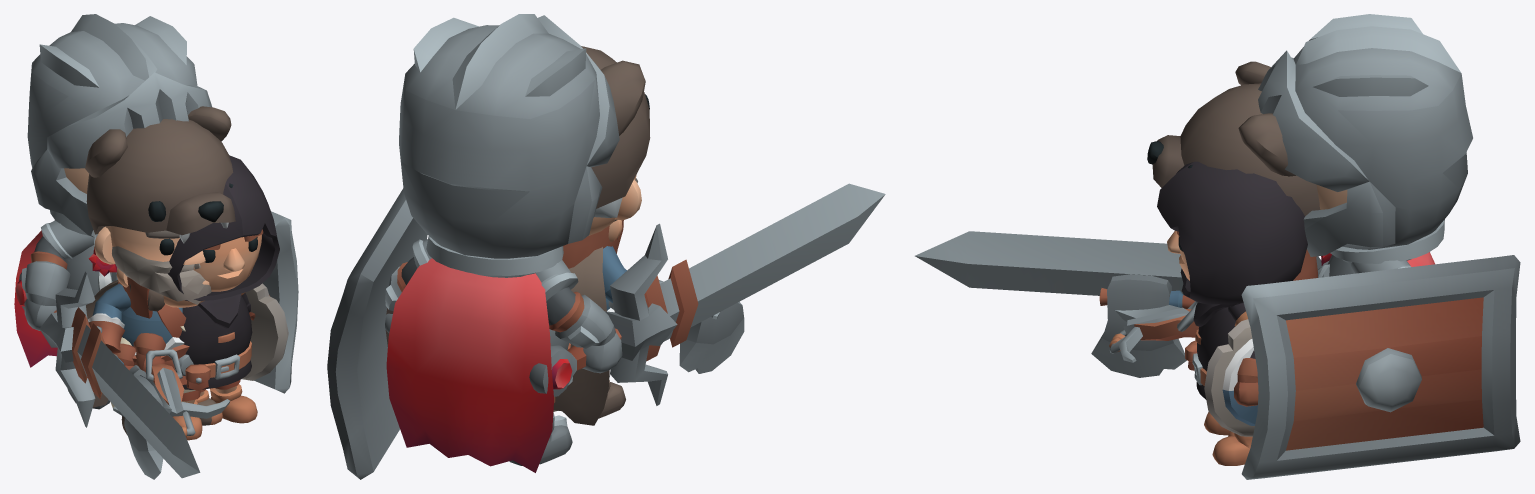
Rendered from units.glb.
3 renders of one model, left to right at view 1: azimuth 30°, elevation 25°; view 2: azimuth 150°, elevation 25°; view 3: azimuth 270°, elevation 25°, orthographic. The views are drawn at different scales.
Parts seen in each view (by area): view 1: Unit_4_Baron, Unit_3_Axeman, Unit_2_Crossbow, Unit_1_Dagger; view 2: Unit_4_Baron, Unit_3_Axeman, Unit_1_Dagger; view 3: Unit_4_Baron, Unit_2_Crossbow, Unit_3_Axeman, Unit_1_Dagger.
Boxes of the visible parts, x1,y1,x2,y2 form: Unit_4_Baron: (14, 14, 298, 478); Unit_3_Axeman: (85, 106, 288, 479); Unit_2_Crossbow: (113, 155, 279, 440); Unit_1_Dagger: (110, 268, 222, 424); Unit_4_Baron: (327, 14, 885, 479); Unit_3_Axeman: (553, 46, 744, 425); Unit_1_Dagger: (553, 220, 623, 411); Unit_4_Baron: (915, 14, 1520, 479); Unit_2_Crossbow: (1109, 161, 1307, 465); Unit_3_Axeman: (1091, 61, 1320, 436); Unit_1_Dagger: (1115, 249, 1317, 436).
Bounding box in the file's own units: 1.17 × 1.55 × 2.13.
Materials: 4 (4 with a texture image).
